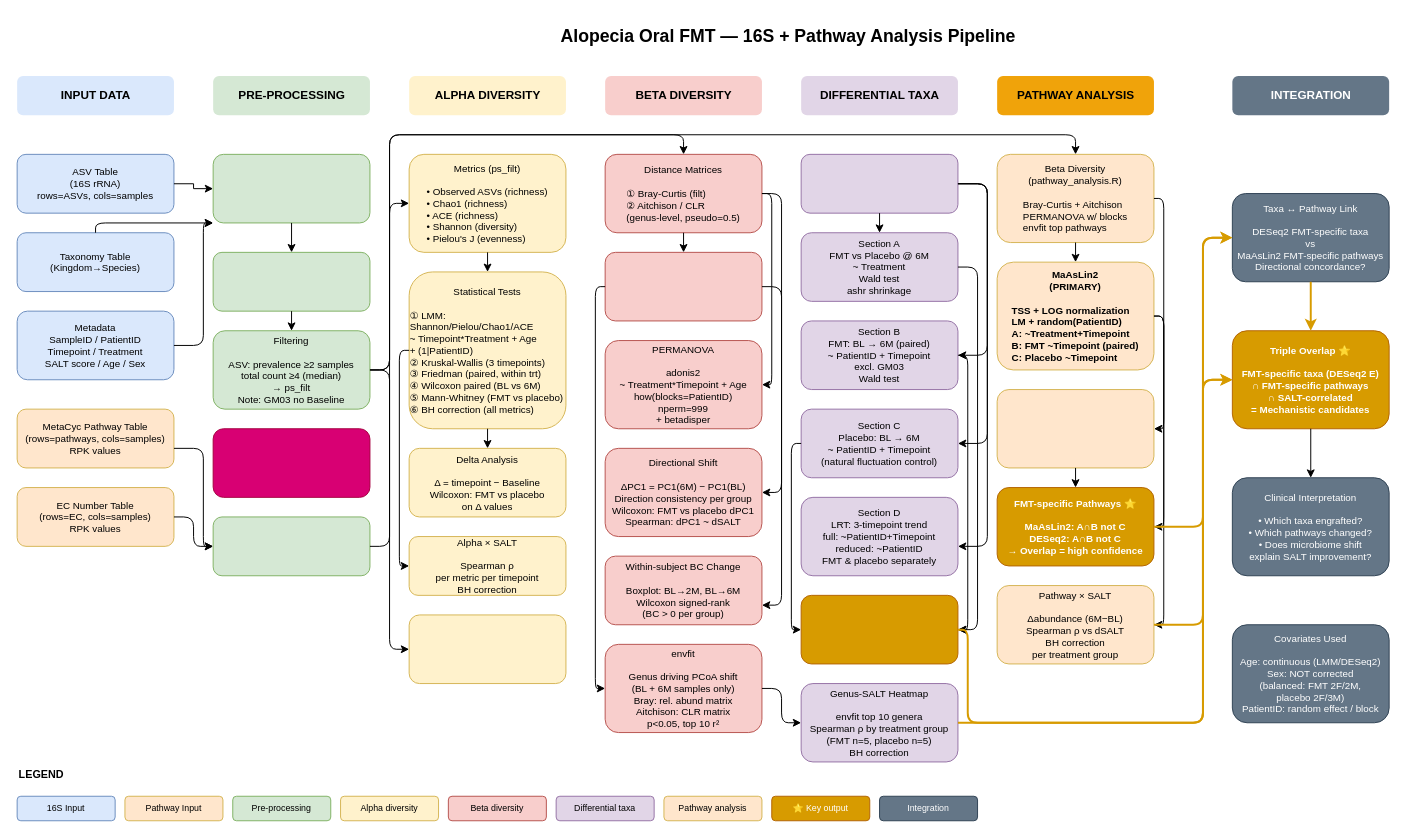
Image size: 1406x838. Some labels were removed from this diagram. The shapes that lost their labels are listed below. From the top down, each one's box as (x1, y1, x2, y2) in pixels, then its label:
(212, 153, 370, 223): data_prep.R ids_mapper.lst mapping analysis_id → lab_id (rename_with)
(800, 153, 958, 213): DESeq2 — Genus level (tax_glom) poscounts size factor
(212, 251, 370, 311): Phyloseq object otu_table + tax_table + sample_data
(604, 251, 762, 321): PCoA Ordination cmdscale / ordinate PC1, PC2, PC3 Trajectory plot (geom_path)
(996, 389, 1154, 468): DESeq2 (SENSITIVITY) round(RPK) → integer Same A/B/C design poscounts + ashr
(212, 428, 370, 497): Rarefaction depth = min(sample_sums) × 0.9 set.seed(42) → ps_rare
(212, 516, 370, 576): Pathway Filtering prevalence ≥ 20% mean abundance ≥ 1
(408, 614, 566, 684): Rarefaction Curves vegan::rarecurve step=200 verify sequencing depth
(800, 594, 958, 664): Section E ⭐ FMT-specific Taxa A ∩ B, not C (truly FMT-driven)
